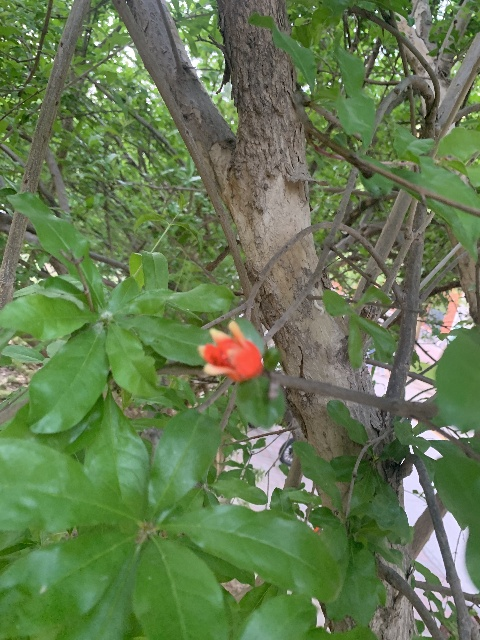flower: (196, 320, 263, 382)
